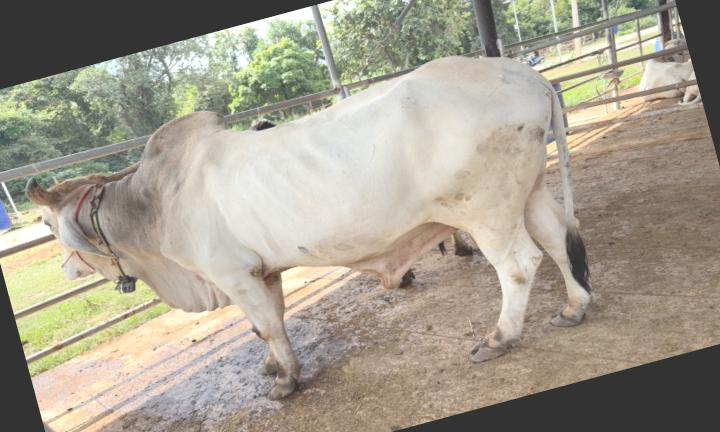Brahman: (26, 55, 594, 399)
